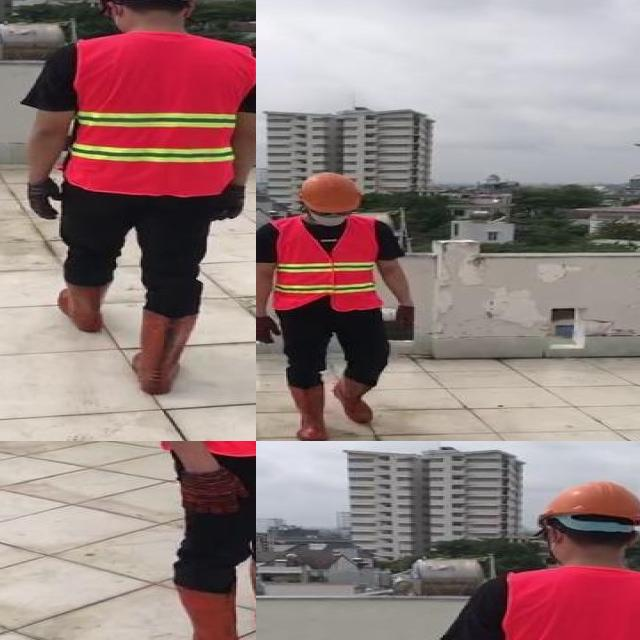boots: (129, 307, 203, 395), (181, 584, 256, 640), (286, 385, 332, 441), (56, 281, 106, 332), (332, 372, 380, 424)
face_mask: (308, 206, 353, 226)
hand_glove: (176, 468, 253, 514), (23, 179, 62, 221), (214, 186, 246, 220), (256, 316, 282, 343), (394, 307, 420, 327)
head_helmet: (523, 479, 640, 530), (297, 172, 364, 214)
person: (14, 0, 256, 399), (256, 167, 422, 441), (419, 479, 640, 640), (89, 441, 256, 640)
vest: (66, 31, 256, 197), (266, 217, 382, 311), (490, 570, 640, 640)
